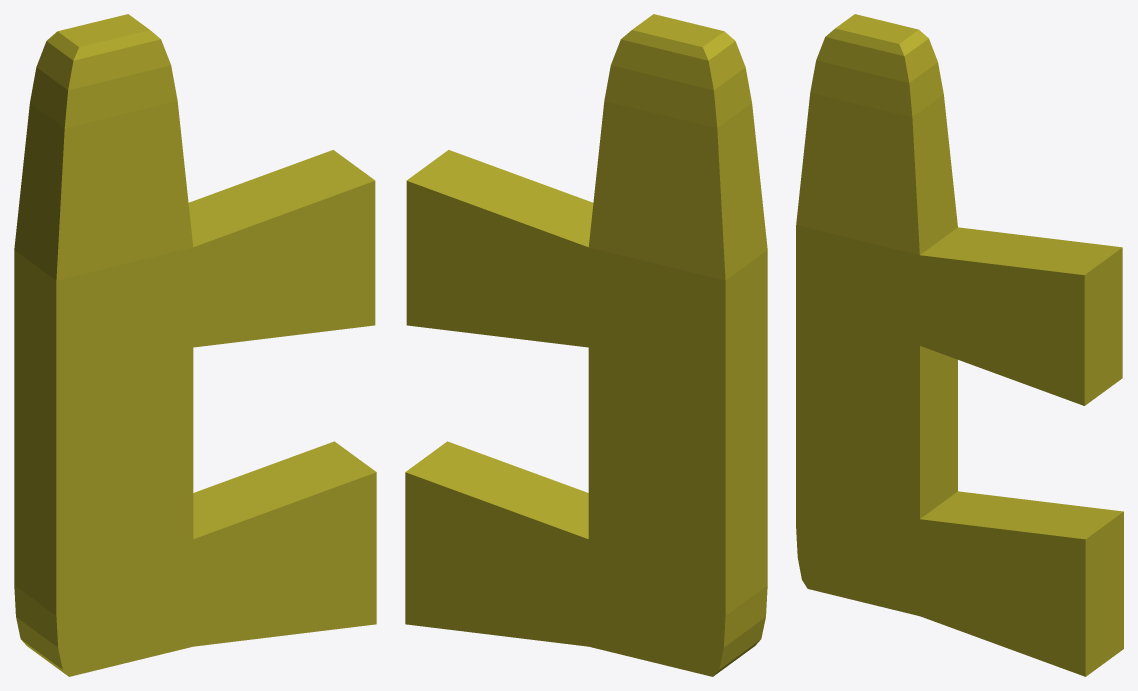
Rendered from keybottom.fbx.
The picture shows the model from 3 angles, left to right: view 1: azimuth 30°, elevation 25°; view 2: azimuth 150°, elevation 25°; view 3: azimuth 330°, elevation 25°; orthographic projection. The views are drawn at different scales.
Visible parts, largest first — view 1: Cube; view 2: Cube; view 3: Cube.
Boxes of the visible parts, left/top/right/bottom form: Cube: left=14, top=14, right=376, bottom=676; Cube: left=405, top=14, right=767, bottom=676; Cube: left=796, top=14, right=1123, bottom=676.
Size of the model in its own units: 97.12 by 185 by 22.14.
